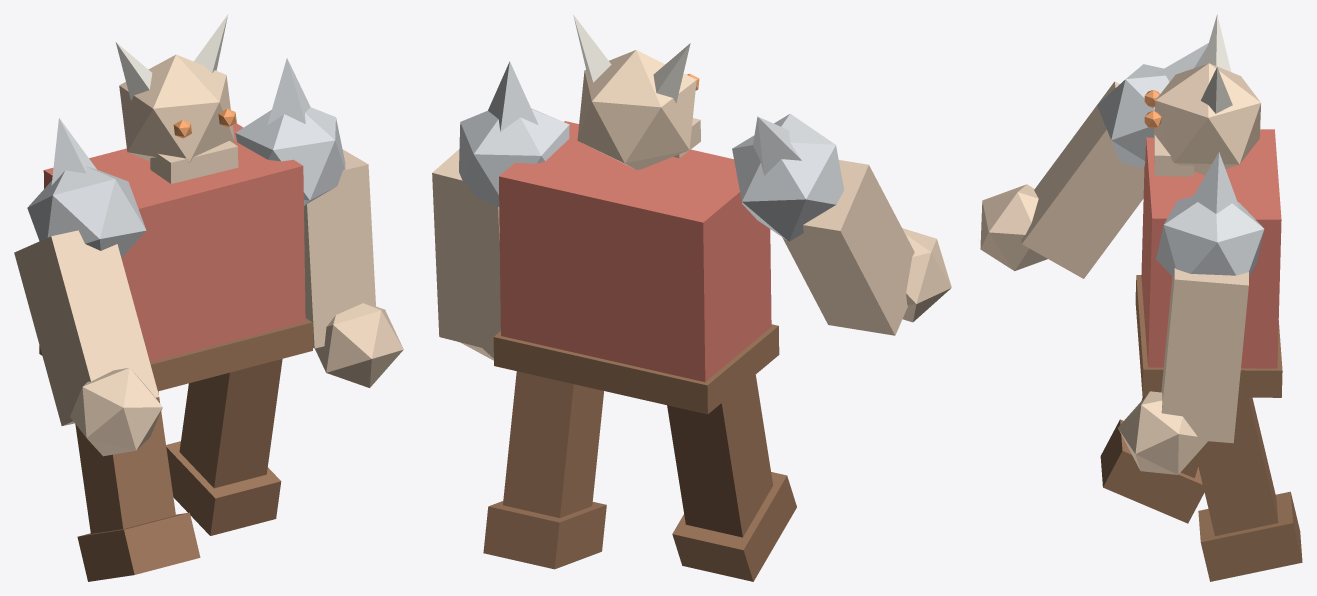
Rendered from npcpose_brute_walk_01.glb.
3 renders of one model, left to right at view 1: azimuth 30°, elevation 25°; view 2: azimuth 150°, elevation 25°; view 3: azimuth 270°, elevation 25°, orthographic. The views are drawn at different scales.
Visible parts, largest first — view 1: npcpose; view 2: npcpose; view 3: npcpose.
Part boxes in pixels (x1=…): npcpose: x1=14, y1=14, x2=403, y2=581; npcpose: x1=432, y1=14, x2=951, y2=581; npcpose: x1=980, y1=14, x2=1302, y2=581.
Bounding box in the file's own units: 1.46 × 1.86 × 1.09.
